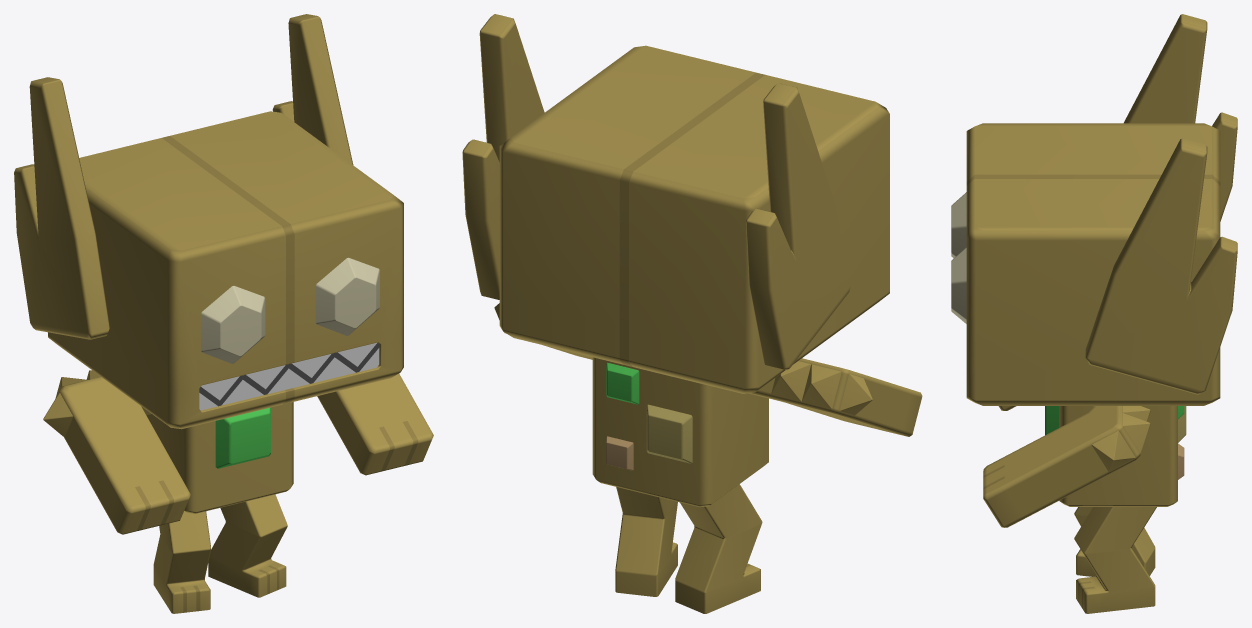
3 renders of one model, left to right at view 1: azimuth 30°, elevation 25°; view 2: azimuth 150°, elevation 25°; view 3: azimuth 270°, elevation 25°, orthographic. The views are drawn at different scales.
Visible parts, largest first — view 1: model; view 2: model; view 3: model.
Boxes of the visible parts, x1=… form: model: x1=14, y1=14, x2=433, y2=613; model: x1=462, y1=14, x2=922, y2=613; model: x1=951, y1=14, x2=1237, y2=613.
Bounding box in the file's own units: 1.86 × 2.66 × 1.36.
